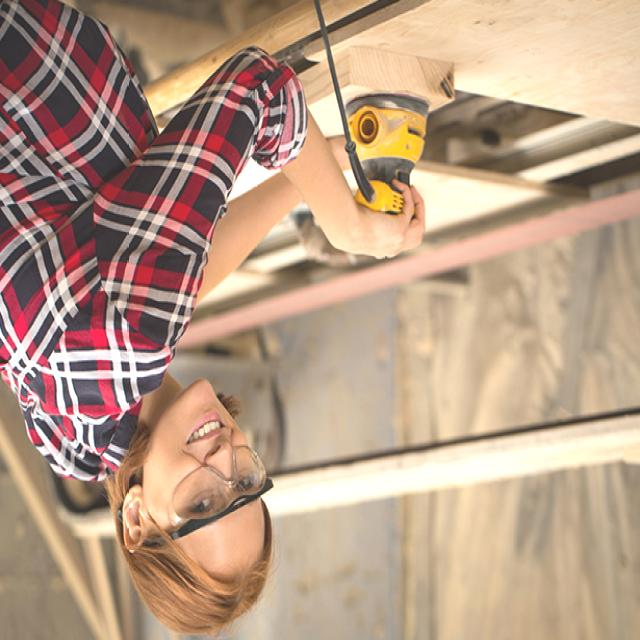Safety Glasses: (136, 448, 278, 544)
